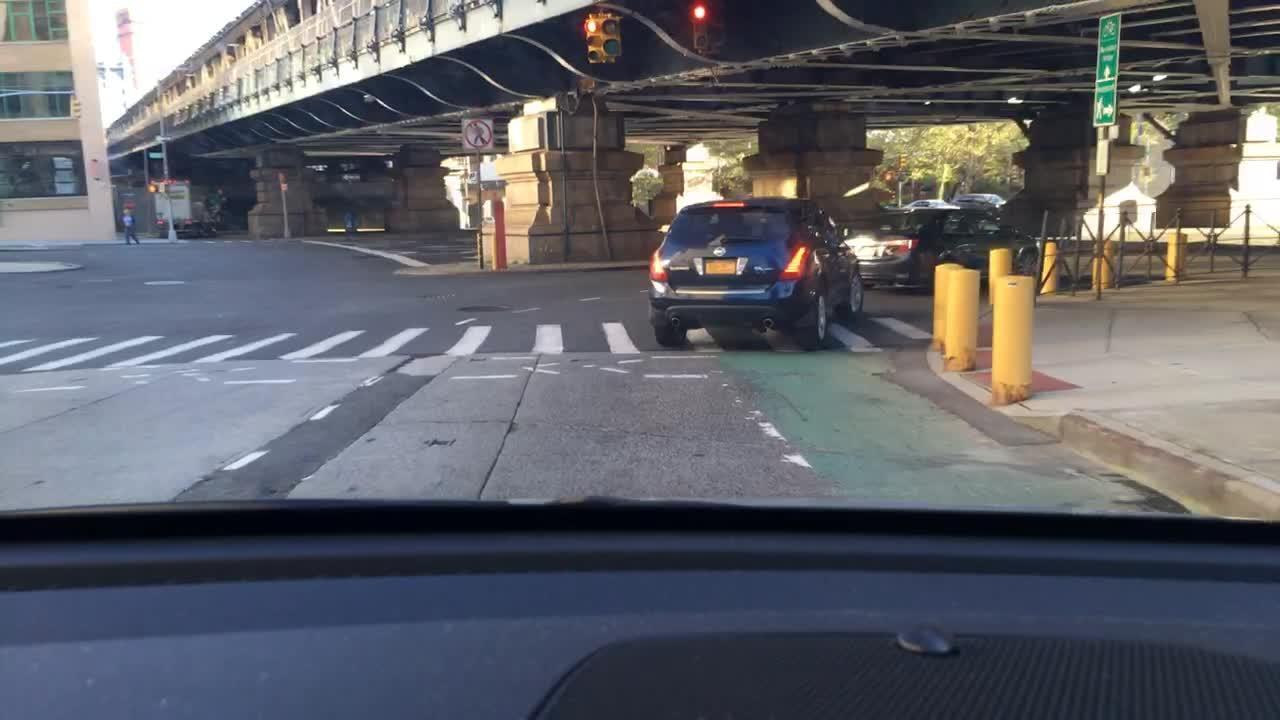kia: (710, 241, 733, 259)
